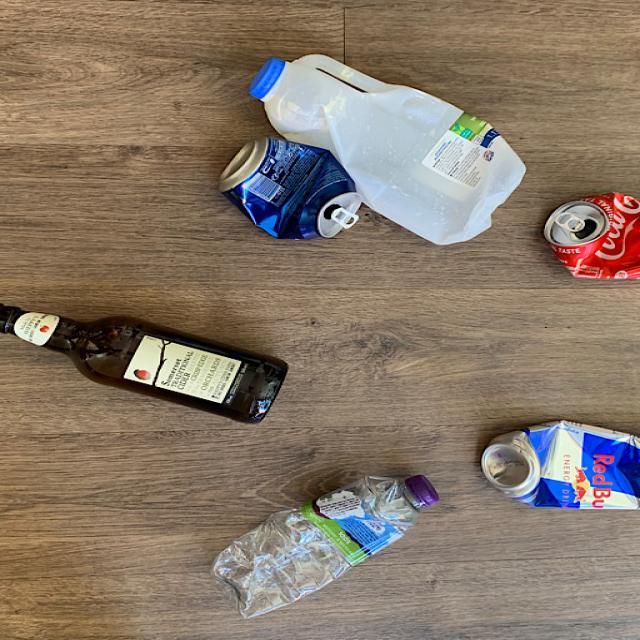litter: (248, 52, 528, 249), (0, 304, 289, 426), (213, 472, 442, 618), (219, 137, 366, 245), (480, 416, 640, 514), (544, 190, 638, 284)
